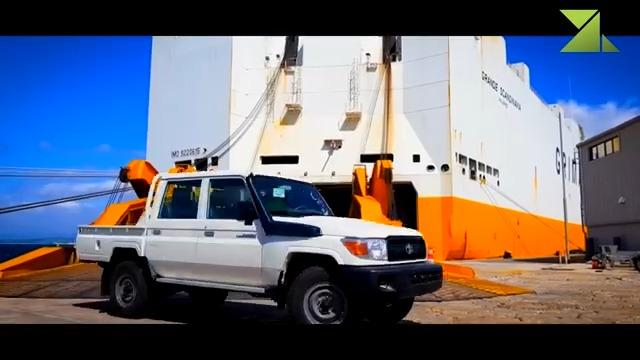MIL_HMMWV: (74, 170, 443, 326)
